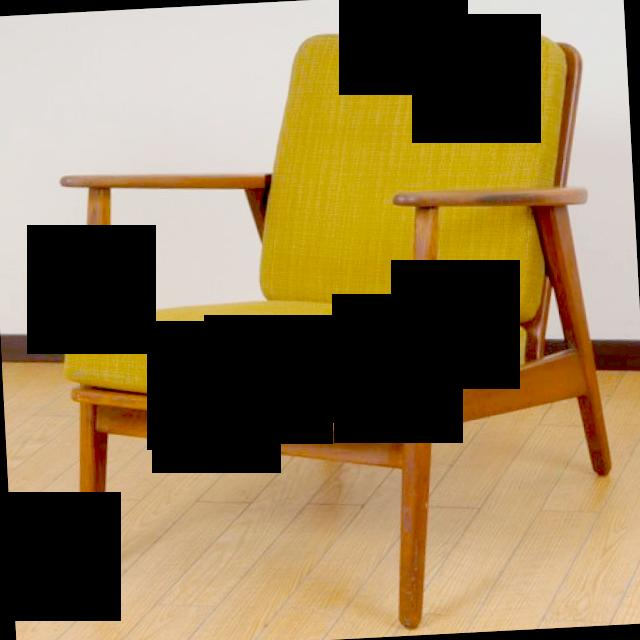chair vintage: (38, 9, 636, 640)
